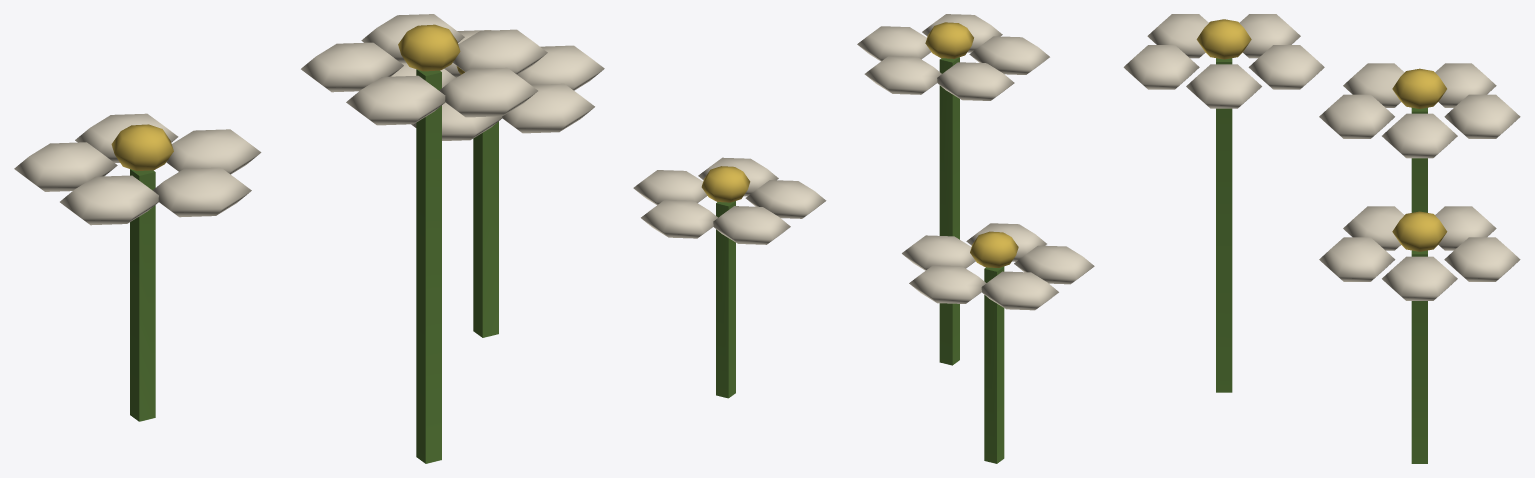
File: daisy.glb
The picture shows the model from 3 angles, left to right: view 1: azimuth 30°, elevation 25°; view 2: azimuth 150°, elevation 25°; view 3: azimuth 270°, elevation 25°; orthographic projection. The views are drawn at different scales.
Parts seen in each view (by area): view 1: daisy; view 2: daisy; view 3: daisy.
Boxes of the visible parts, box(x1,y1,x2,y2) form: daisy: box(14, 14, 604, 463); daisy: box(633, 14, 1094, 463); daisy: box(1123, 14, 1520, 463).
Size of the model in its own units: 0.302 by 0.2275 by 0.2234.
